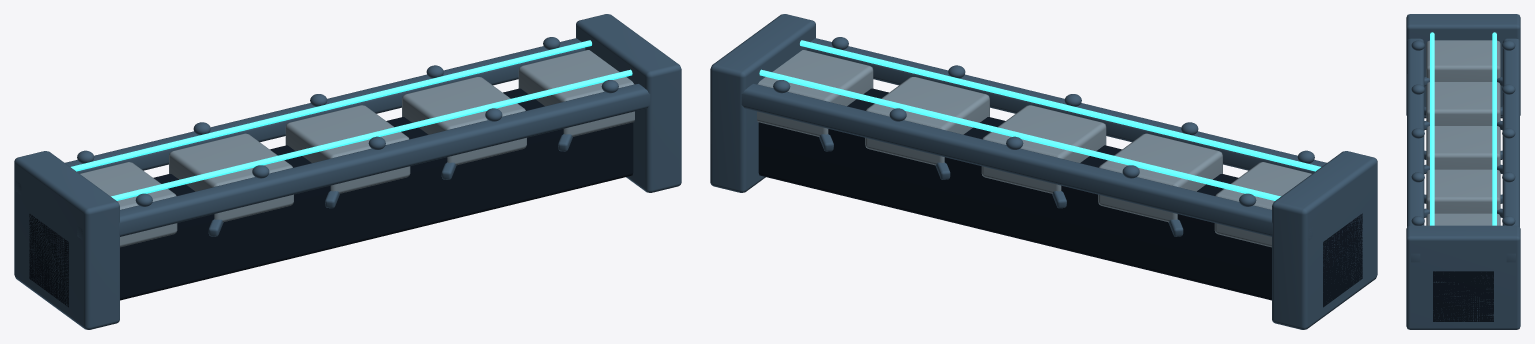
File: station-arm.glb
3 renders of one model, left to right at view 1: azimuth 30°, elevation 25°; view 2: azimuth 150°, elevation 25°; view 3: azimuth 270°, elevation 25°, orthographic. The views are drawn at different scales.
Visible parts, largest first — view 1: Cube; view 2: Cube; view 3: Cube.
Boxes of the visible parts, bbox=[...] form: Cube: bbox=[14, 14, 681, 329]; Cube: bbox=[710, 14, 1377, 329]; Cube: bbox=[1406, 14, 1520, 329].
Size of the model in its own units: 2 by 0.39 by 0.43.
